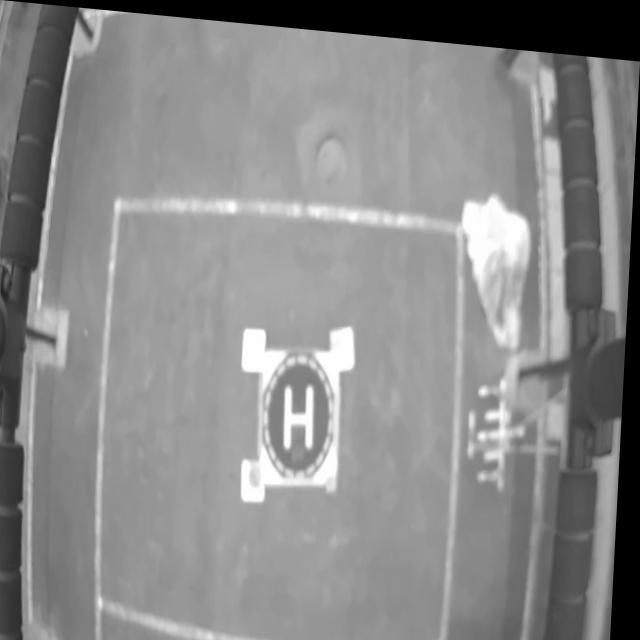Helipad: (288, 377, 318, 447)
